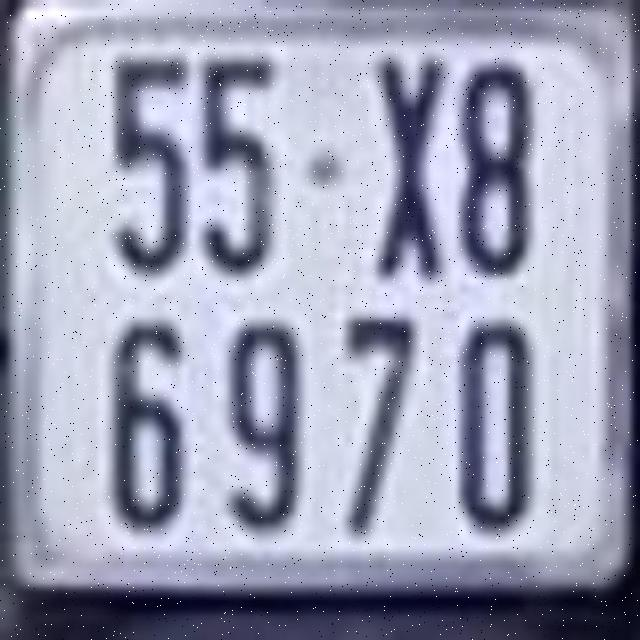0: (454, 315, 534, 532)
5: (108, 49, 192, 276), (199, 51, 277, 275)
6: (110, 315, 186, 531)
7: (340, 309, 418, 536)
8: (460, 56, 536, 280)
9: (224, 314, 301, 533)
X: (374, 56, 445, 277)
